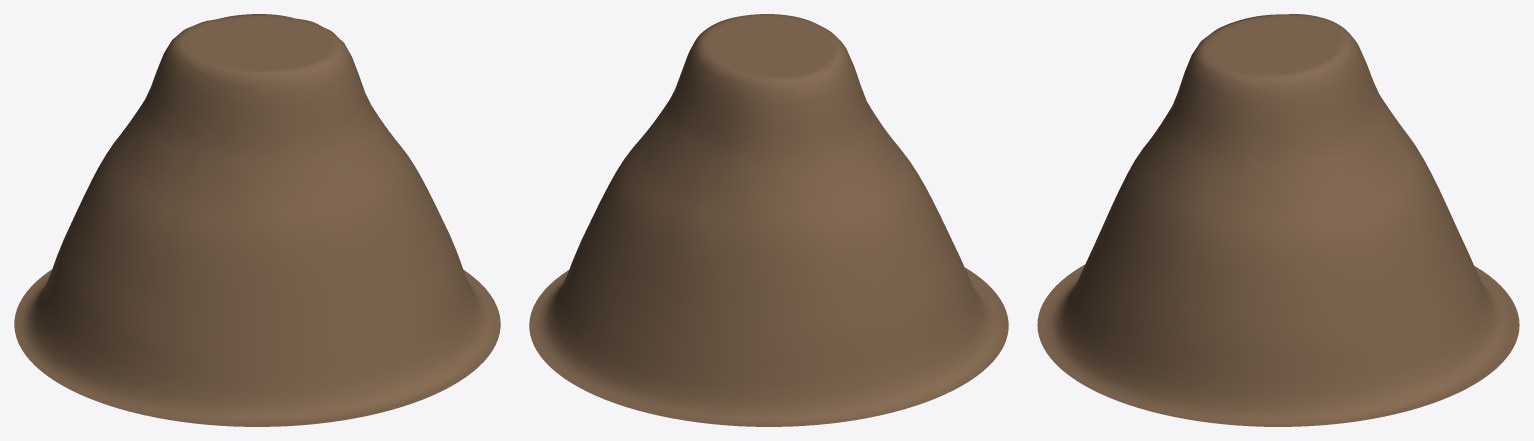
File: hill-v4.6.glb
3 renders of one model, left to right at view 1: azimuth 30°, elevation 25°; view 2: azimuth 150°, elevation 25°; view 3: azimuth 270°, elevation 25°, orthographic.
Visible parts, largest first — view 1: hill_v4_6; view 2: hill_v4_6; view 3: hill_v4_6.
Part boxes in pixels (x1,y1,x2,y2): hill_v4_6: (14, 14, 500, 426); hill_v4_6: (529, 14, 1008, 426); hill_v4_6: (1037, 14, 1519, 426).
Bounding box in the file's own units: 2 × 1.28 × 2.
